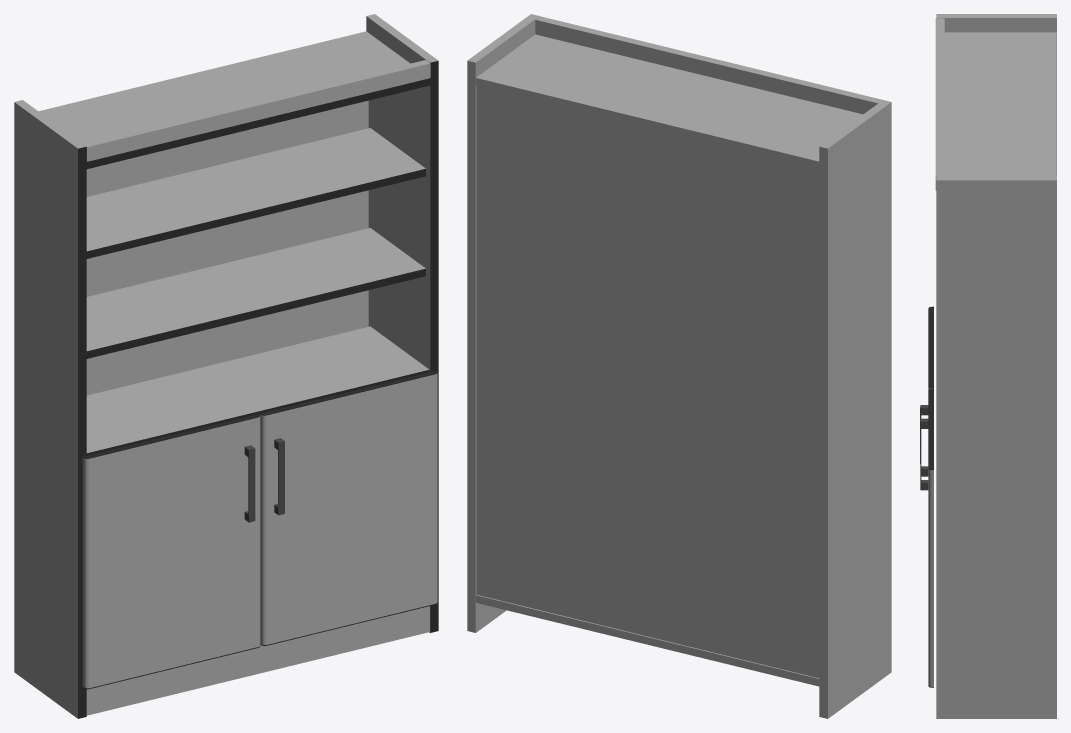
Rendered from Laboratory closet 1.FBX.
3 renders of one model, left to right at view 1: azimuth 30°, elevation 25°; view 2: azimuth 150°, elevation 25°; view 3: azimuth 270°, elevation 25°, orthographic. The views are drawn at different scales.
Visible parts, largest first — view 1: laboratory closet 1; view 2: laboratory closet 1; view 3: laboratory closet 1.
Part boxes in pixels (box(x1,y1,x2,y2)): laboratory closet 1: box(14, 14, 438, 718); laboratory closet 1: box(467, 14, 891, 718); laboratory closet 1: box(920, 14, 1056, 718).
Bounding box in the file's own units: 1415 × 492 × 2138.
